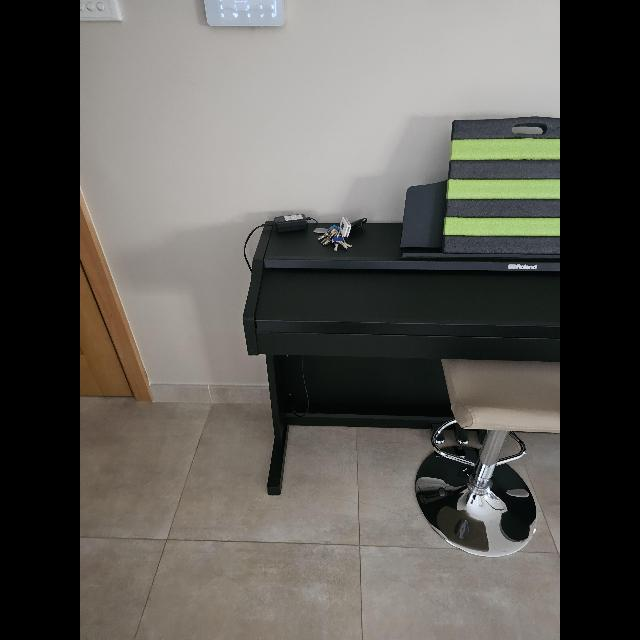Keys: (317, 218, 368, 252)
